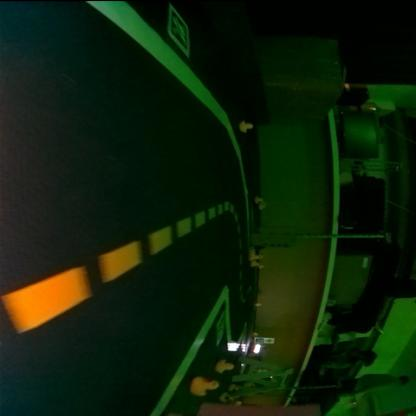Duckie: (191, 376, 219, 396), (216, 360, 232, 374), (239, 121, 254, 132), (220, 394, 232, 402), (230, 384, 238, 391), (252, 260, 260, 266), (256, 196, 264, 202), (258, 204, 266, 210), (255, 301, 263, 307), (253, 253, 260, 259)
Duckiebot: (249, 344, 262, 360)
Intersection sign: (267, 338, 275, 344)
QR code: (170, 3, 192, 58), (218, 312, 226, 346), (258, 338, 266, 344)
